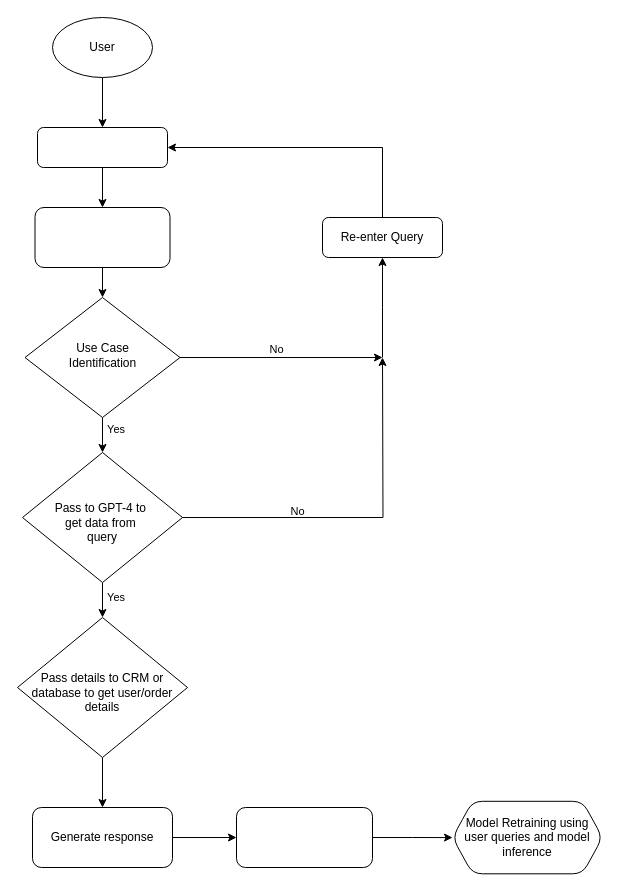
Some shapes in this 620 by 892 pixel diagram are drawn without their labels. The shapes that lost their labels are listed below. From the top down, each one's centre as x and y in pixels, then its label:
point 102,147: UI Element
point 102,237: Spell Check (custum built for e-commerce usage)
point 304,837: Record responses of users and system in backend database
